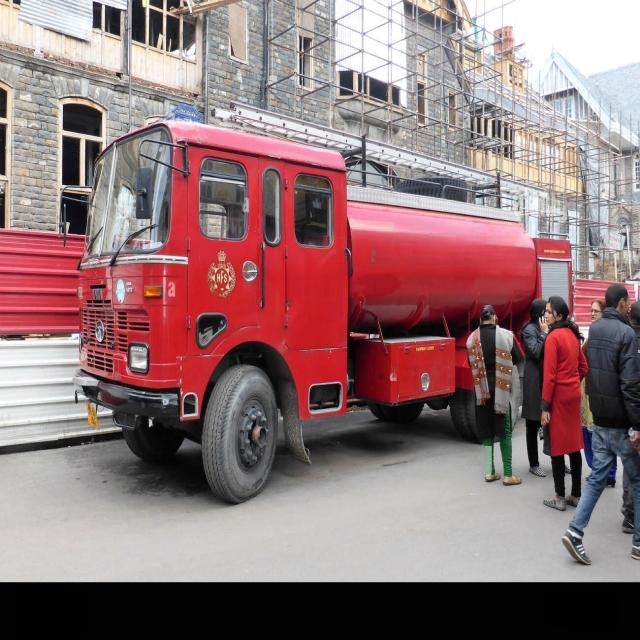emergency: (75, 104, 574, 501)
